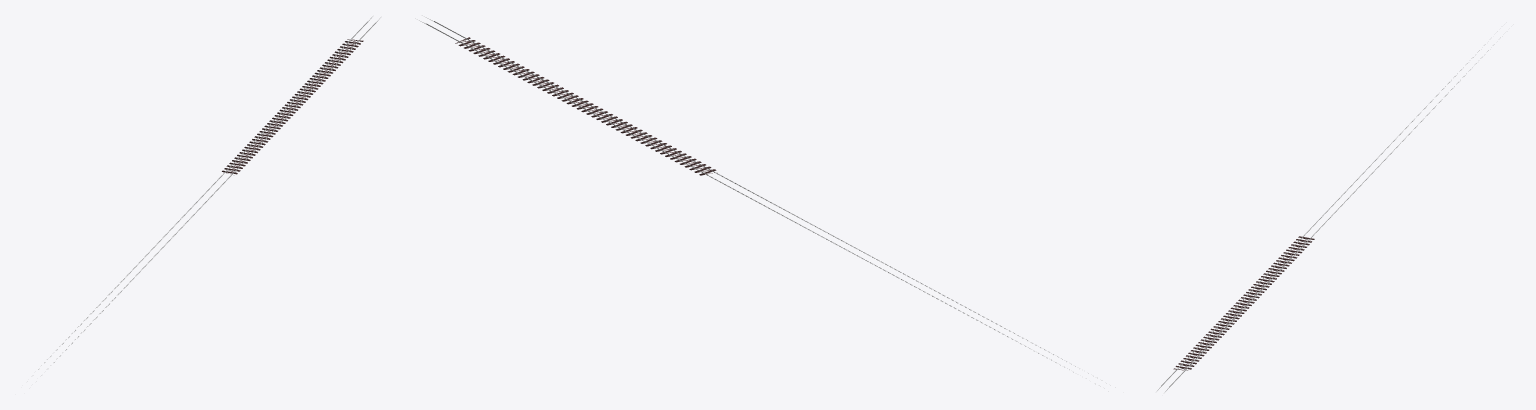
3 views of the same model, side by side, from view 1: azimuth 90°, elevation 25°; view 2: azimuth 150°, elevation 25°; view 3: azimuth 270°, elevation 25° (orthographic). The views are drawn at different scales.
Bounding box in the file's own units: 115 × 0.1478 × 46.97.
